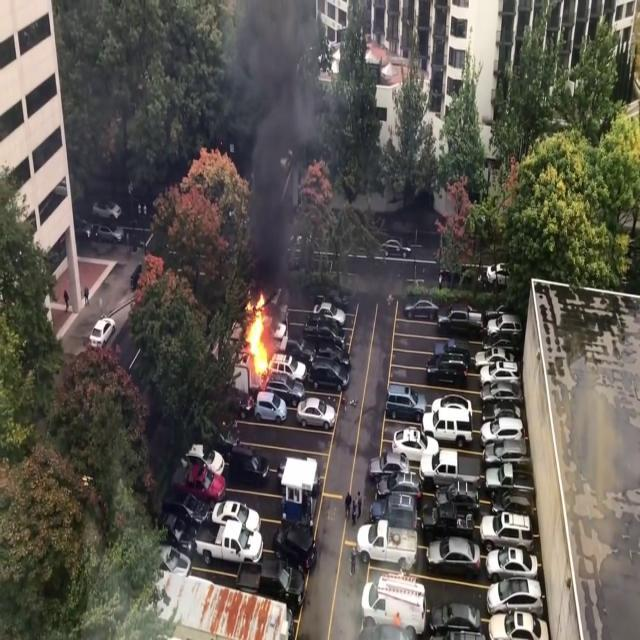Fire: (238, 289, 276, 378)
Smoke: (220, 1, 344, 304)
